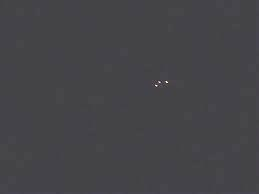Plane: (144, 74, 175, 91)
